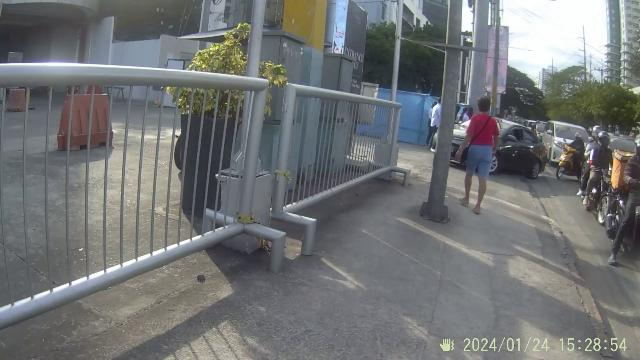utility_post: (422, 0, 462, 226), (571, 24, 589, 82)
